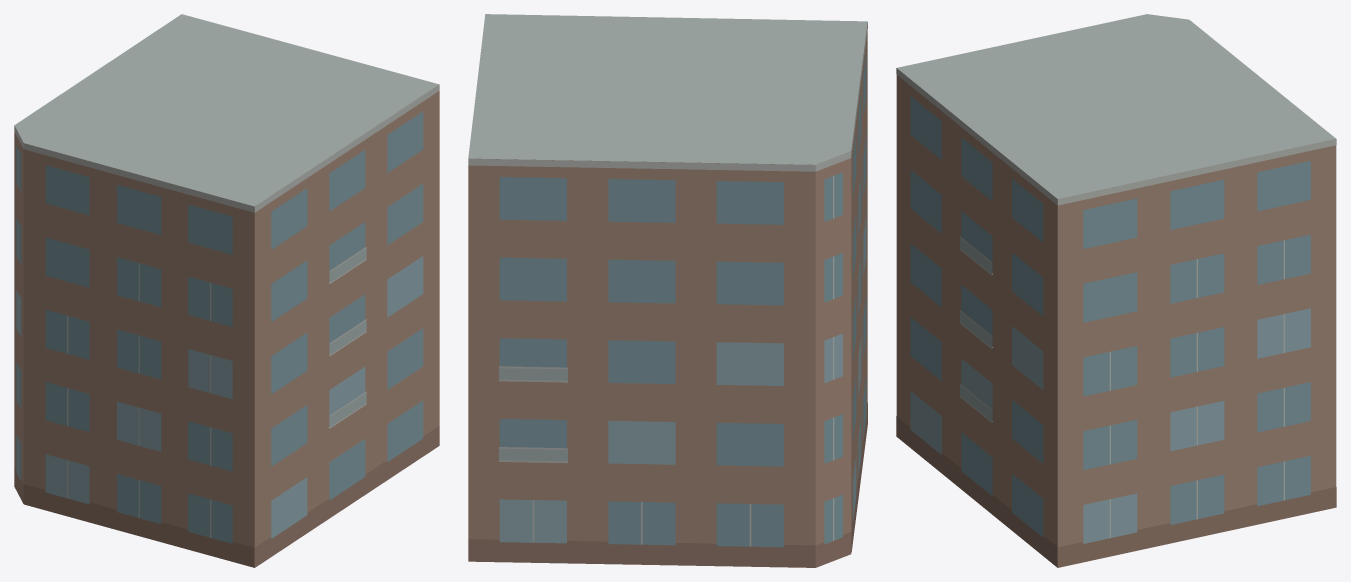
Rendered from survey-upis-33026135.glb.
3 views of the same model, side by side, from view 1: azimuth 30°, elevation 25°; view 2: azimuth 150°, elevation 25°; view 3: azimuth 270°, elevation 25° (orthographic). The views are drawn at different scales.
Parts seen in each view (by area): view 1: survey-upis-33026135.tmp; view 2: survey-upis-33026135.tmp; view 3: survey-upis-33026135.tmp.
Boxes of the visible parts, x1,y1,x2,y2 form: survey-upis-33026135.tmp: (14, 14, 439, 567); survey-upis-33026135.tmp: (468, 14, 867, 567); survey-upis-33026135.tmp: (896, 14, 1336, 567).
Size of the model in its own units: 15.31 by 14.2 by 15.37.
